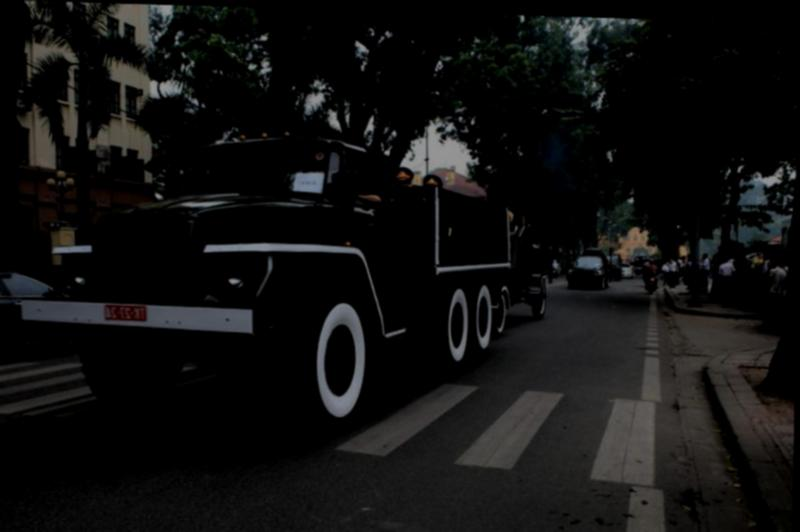License_Plate: (103, 301, 151, 327)
